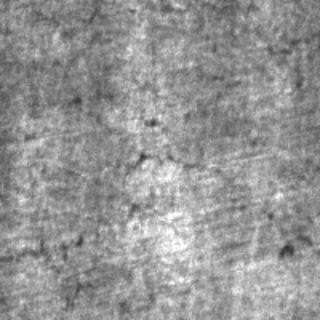crazing: (0, 224, 148, 308), (116, 146, 240, 227)
